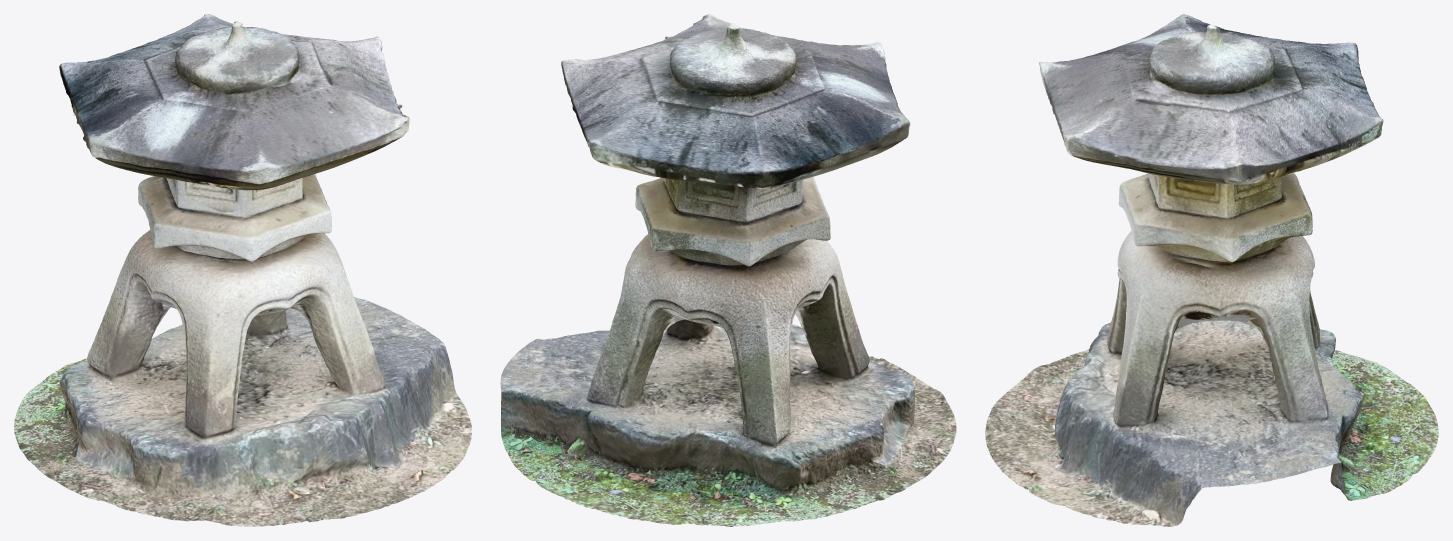
Rendered from golden_lantern.glb.
3 views of the same model, side by side, from view 1: azimuth 30°, elevation 25°; view 2: azimuth 150°, elevation 25°; view 3: azimuth 270°, elevation 25° (orthographic).
Visible parts, largest first — view 1: Object_4, Object_6; view 2: Object_4, Object_6; view 3: Object_4, Object_6.
Part boxes in pixels (x1,y1,x2,y2): Object_4: [18, 14, 471, 526]; Object_6: [14, 14, 471, 526]; Object_4: [500, 14, 956, 526]; Object_6: [500, 15, 956, 525]; Object_4: [985, 14, 1435, 519]; Object_6: [990, 14, 1438, 526].
Bounding box in the file's own units: 3.42 × 3.41 × 3.43.
3 materials, 3 textured.
